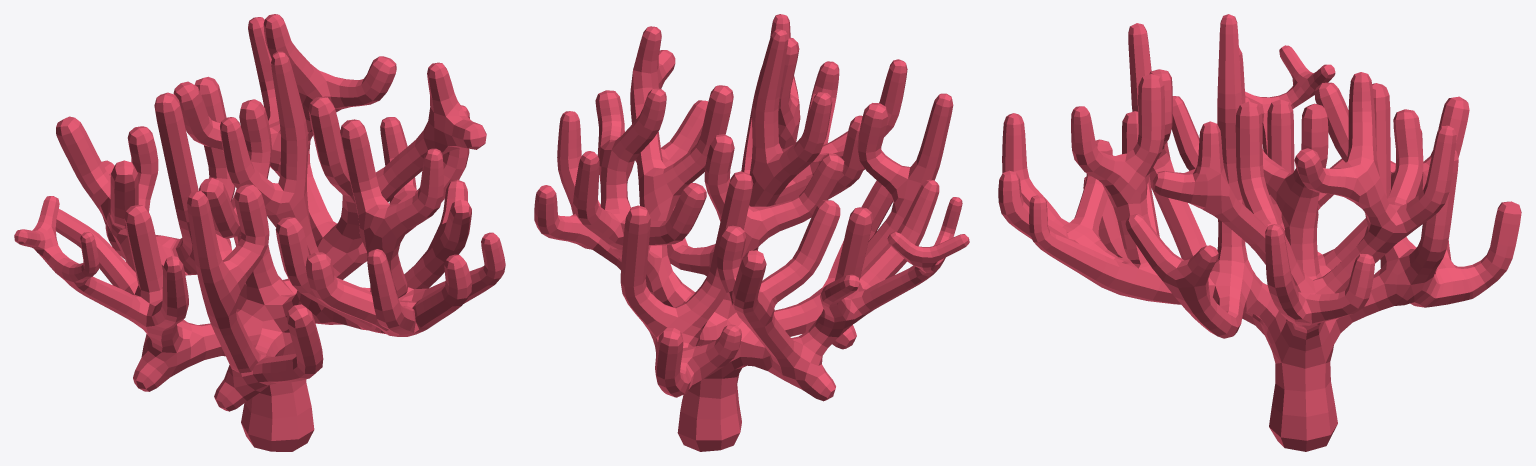
The model's file is coral-1.glb.
3 views of the same model, side by side, from view 1: azimuth 30°, elevation 25°; view 2: azimuth 150°, elevation 25°; view 3: azimuth 270°, elevation 25° (orthographic). The views are drawn at different scales.
Visible parts, largest first — view 1: coral-2.001; view 2: coral-2.001; view 3: coral-2.001.
Boxes of the visible parts, x1,y1,x2,y2 form: coral-2.001: (14,14,505,451); coral-2.001: (534,14,969,451); coral-2.001: (998,14,1521,451).
Size of the model in its own units: 0.4419 by 0.4081 by 0.4682.
